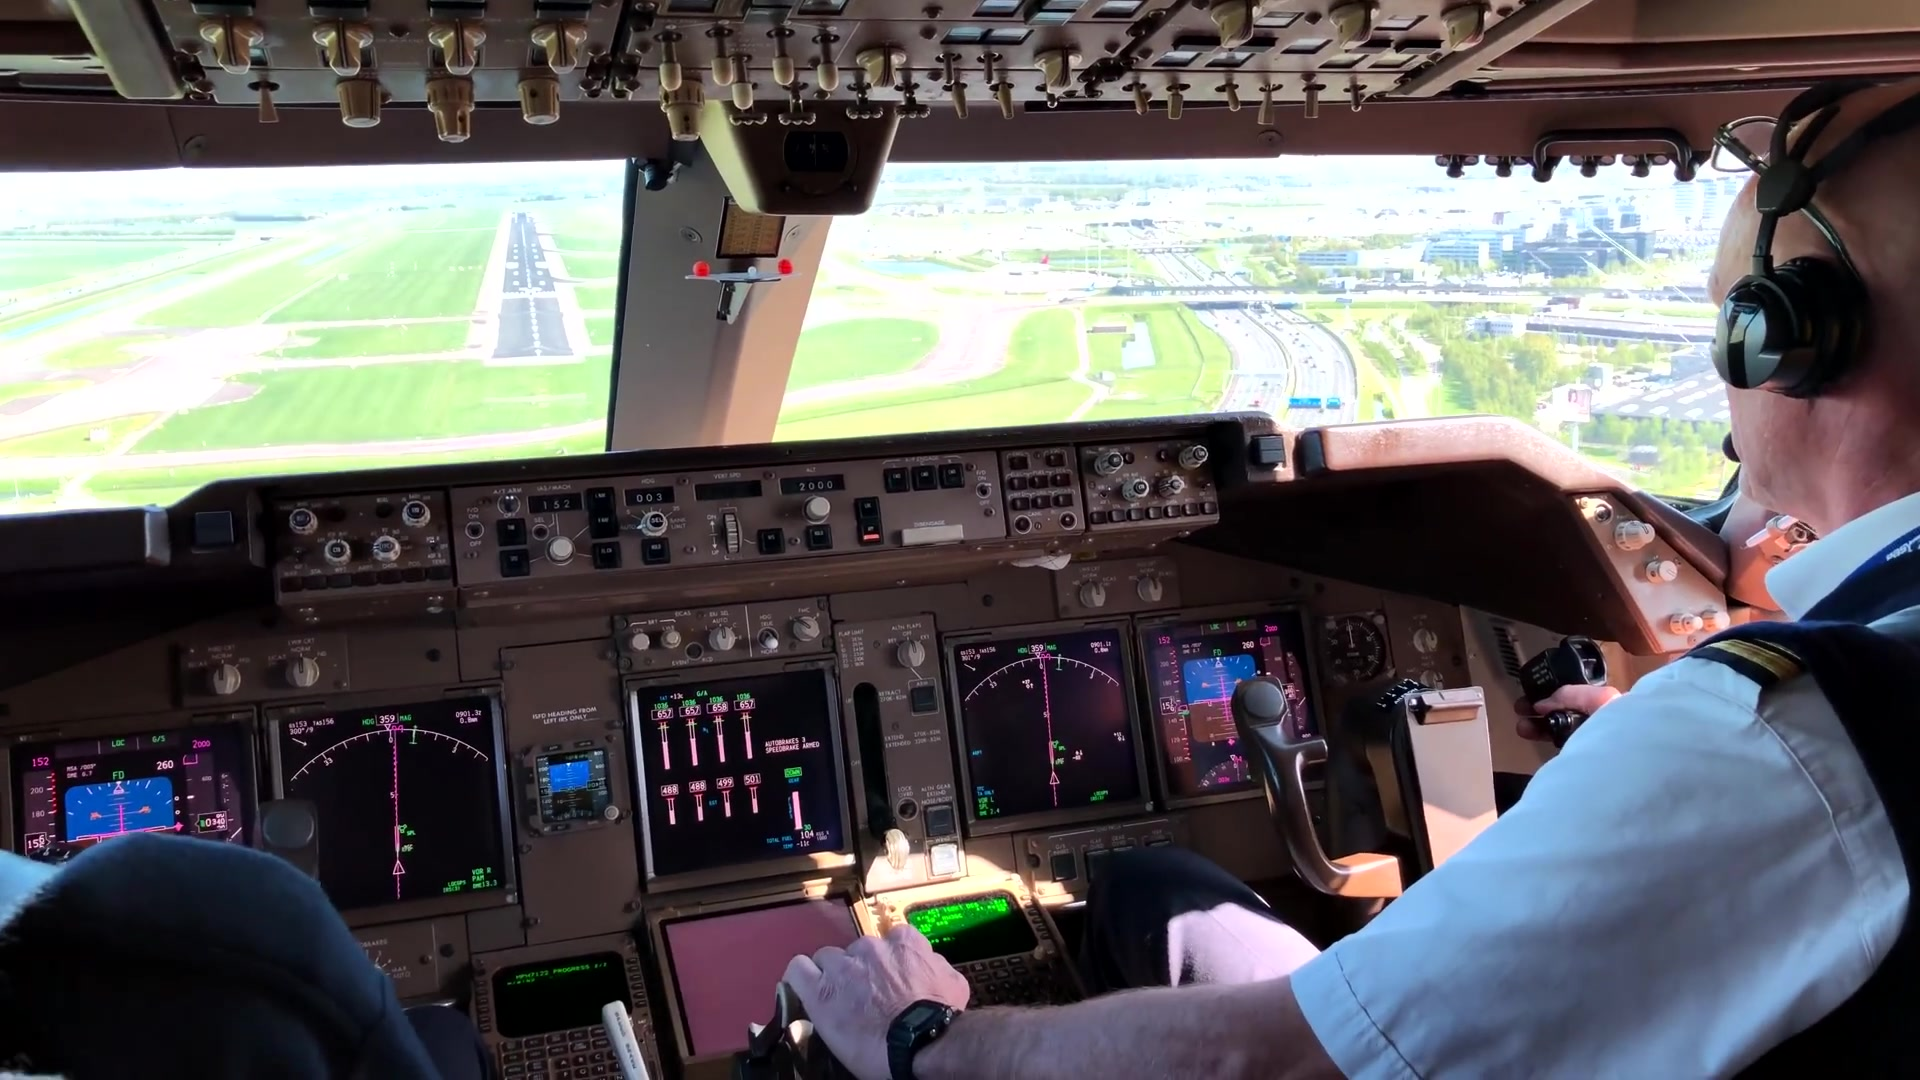entrance: (495, 285, 558, 302)
runway: (492, 211, 574, 361)
